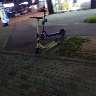beam: (37, 9, 69, 41)
gcooter: (29, 15, 64, 59)
